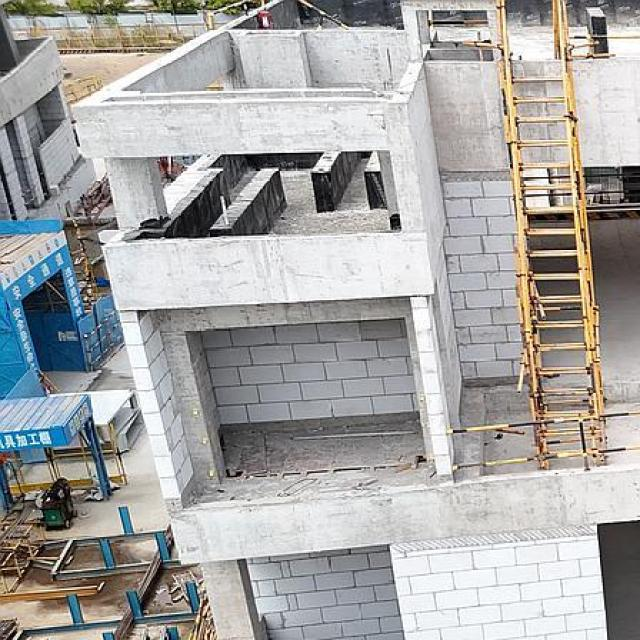Guardrail: (221, 418, 425, 478), (445, 410, 640, 470), (521, 172, 640, 198), (207, 0, 250, 29), (567, 34, 640, 39)
